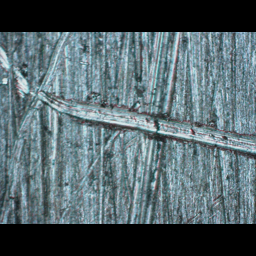d: (1, 45, 255, 160)
